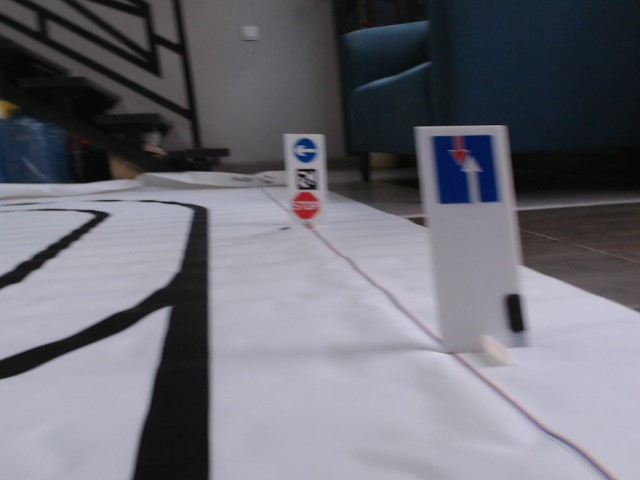Stop: (293, 191, 321, 219)
priority_movement: (430, 136, 502, 204)
